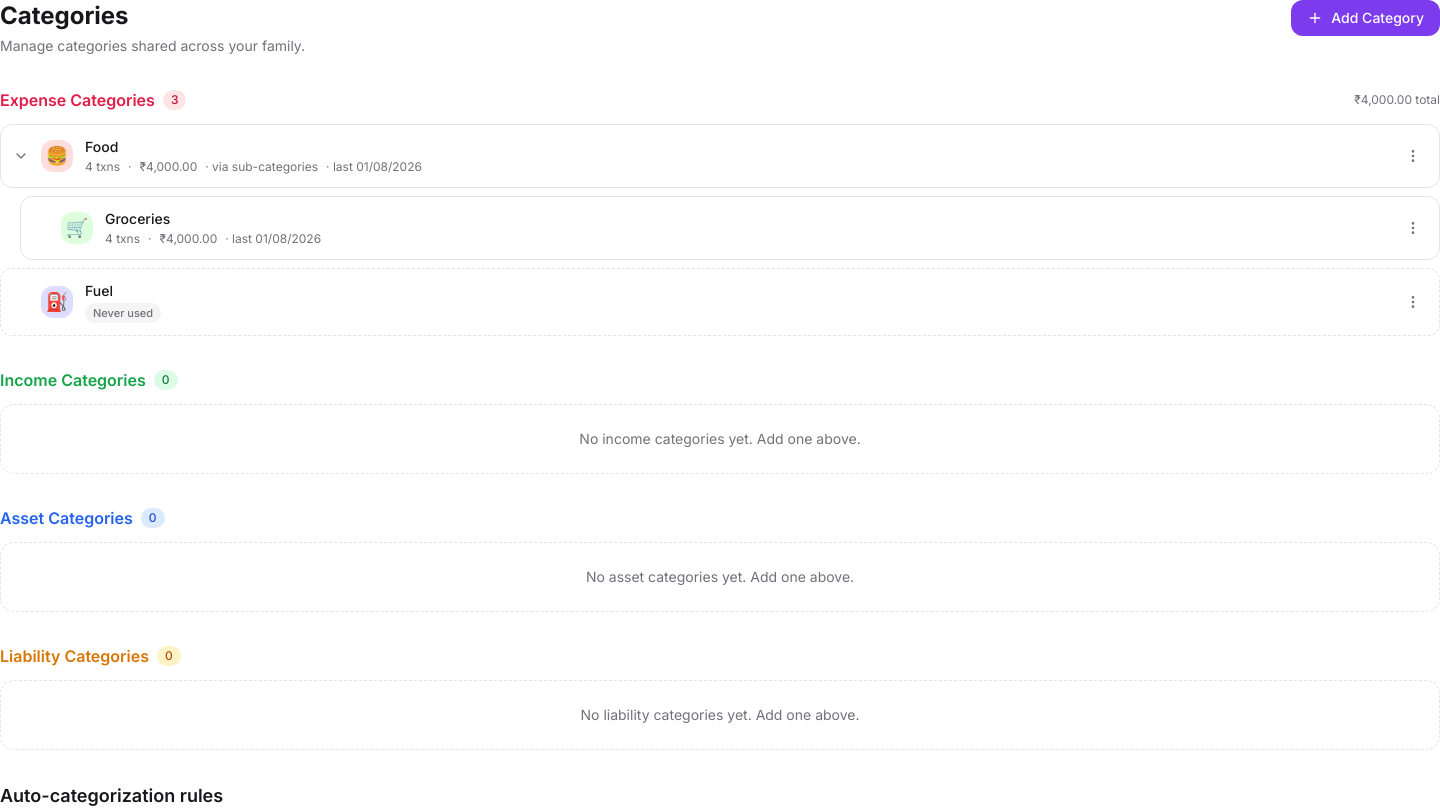
Test: Categories page — safe delete › will not delete a used category without somewhere to move its transactions
Expected: the text "Groceries" is shown, [105,209,170,229]
Step 1. Click the button named "actions for groceries" → [1413, 228], box [1399,214,1427,242]
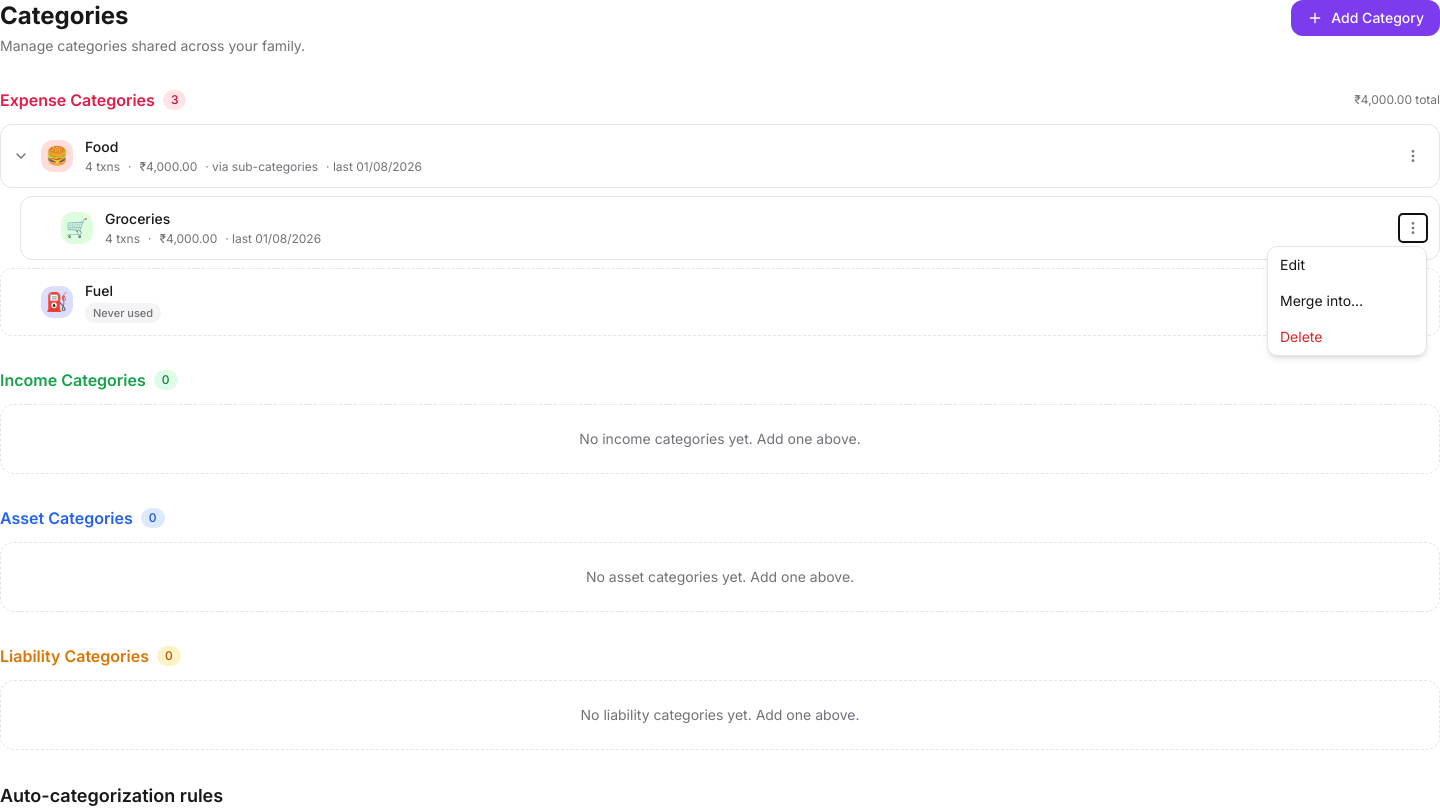
Step 2. Click the button "Delete" → [1347, 337], box [1268,319,1426,355]
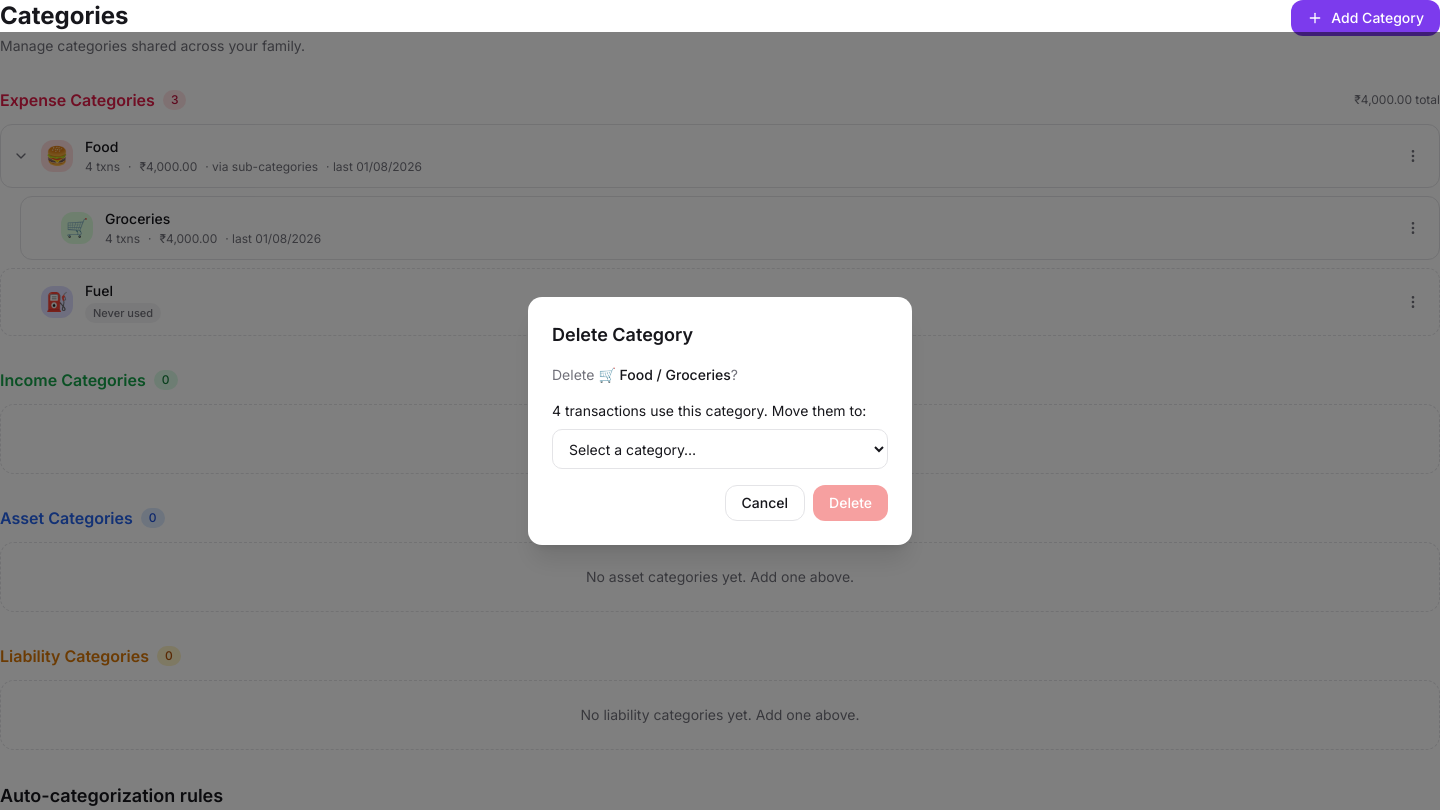
Expected: the text "4 transactions use this category. Move them to:" is shown, [552,401,888,421]
Expected: the button "Delete" is disabled, [813,485,888,521]
